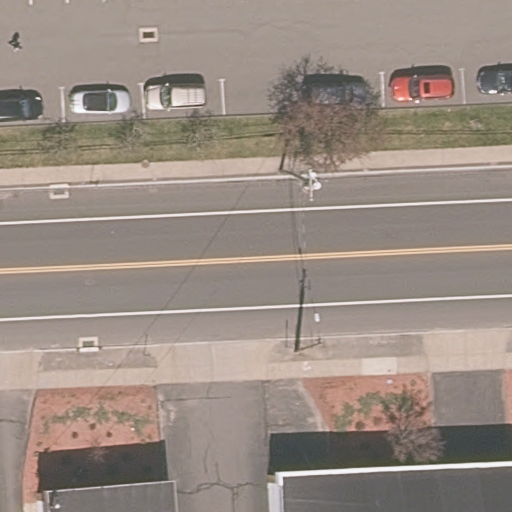DT: (300, 166, 322, 204)
